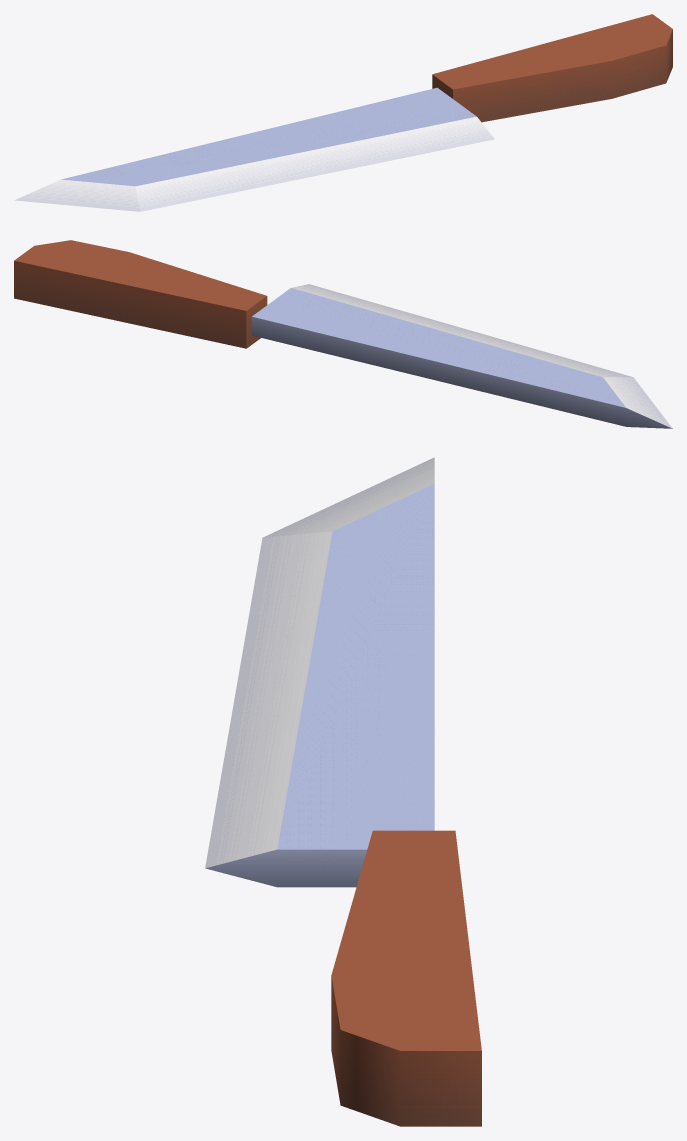
File: cooking_knife.glb
The picture shows the model from 3 angles, top to bottom: view 1: azimuth 30°, elevation 25°; view 2: azimuth 150°, elevation 25°; view 3: azimuth 270°, elevation 25°; orthographic projection. The views are drawn at different scales.
Visible parts, largest first — view 1: cooking-knife; view 2: cooking-knife; view 3: cooking-knife.
Boxes of the visible parts, box(x1,y1,x2,y2) form: cooking-knife: box(14, 14, 672, 211); cooking-knife: box(14, 240, 672, 428); cooking-knife: box(205, 457, 481, 1126).
Size of the model in its own units: 0.7162 by 0.04 by 0.1327.
Materials: 1 (1 with a texture image).
